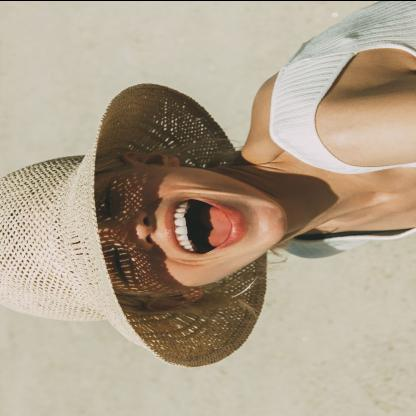hat: (0, 81, 272, 362)
